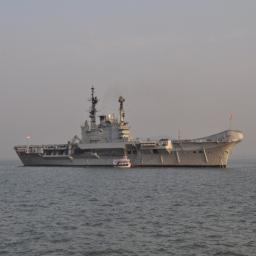Portanaves: (13, 84, 246, 170)
